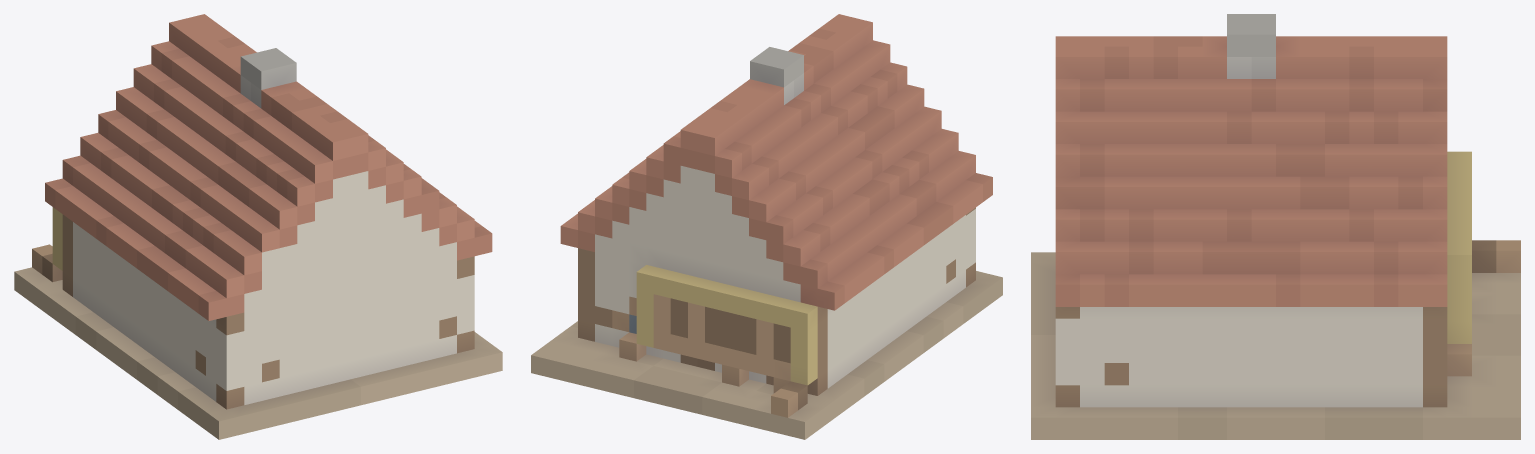
The model's file is cheese_dairy.lite.glb.
3 views of the same model, side by side, from view 1: azimuth 30°, elevation 25°; view 2: azimuth 150°, elevation 25°; view 3: azimuth 270°, elevation 25° (orthographic). The views are drawn at different scales.
Parts seen in each view (by area): view 1: cheese_dairy; view 2: cheese_dairy; view 3: cheese_dairy.
Boxes of the visible parts, x1=… form: cheese_dairy: x1=14, y1=14, x2=502, y2=439; cheese_dairy: x1=531, y1=14, x2=1002, y2=439; cheese_dairy: x1=1031, y1=14, x2=1520, y2=439.
Bounding box in the file's own units: 4 × 3.75 × 5.
